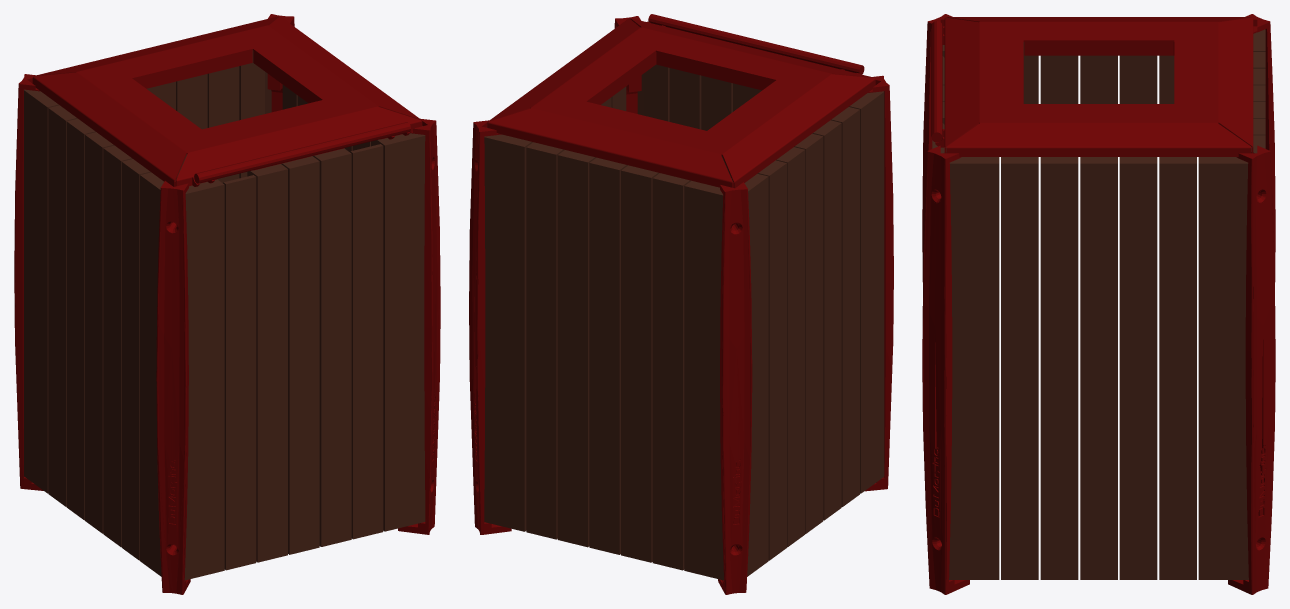
3 views of the same model, side by side, from view 1: azimuth 30°, elevation 25°; view 2: azimuth 150°, elevation 25°; view 3: azimuth 270°, elevation 25° (orthographic). The views are drawn at different scales.
Parts seen in each view (by area): view 1: mesh1.002_mesh1-geometry, mesh11.010_mesh11-geometry, mesh11.014_mesh11-geometry, mesh13.036_mesh13-geometry, mesh15.004_mesh15-geometry, mesh15.003_mesh15-geometry, mesh13.035_mesh13-geometry, mesh13.034_mesh13-geometry, mesh17.007_mesh17-geometry, mesh11.016_mesh11-geometry, mesh13.023_mesh13-geometry, mesh13.022_mesh13-geometry (+13 smaller); view 2: mesh1.002_mesh1-geometry, mesh11.015_mesh11-geometry, mesh11.012_mesh11-geometry, mesh13.033_mesh13-geometry, mesh13.030_mesh13-geometry, mesh13.029_mesh13-geometry, mesh13.032_mesh13-geometry, mesh13.031_mesh13-geometry, mesh17.008_mesh17-geometry, mesh11.011_mesh11-geometry, mesh13.023_mesh13-geometry, mesh13.021_mesh13-geometry (+12 smaller); view 3: mesh1.002_mesh1-geometry, mesh11.009_mesh11-geometry, mesh11.013_mesh11-geometry, mesh13.027_mesh13-geometry, mesh13.025_mesh13-geometry, mesh13.028_mesh13-geometry, mesh13.026_mesh13-geometry, mesh13.024_mesh13-geometry, mesh17.005_mesh17-geometry, mesh17.006_mesh17-geometry, mesh3.002_mesh3-geometry, mesh13.022_mesh13-geometry (+7 smaller).
Part boxes in pixels (bbox=[...]): mesh1.002_mesh1-geometry: bbox=[32, 16, 422, 186]; mesh11.010_mesh11-geometry: bbox=[374, 133, 425, 531]; mesh11.014_mesh11-geometry: bbox=[184, 179, 224, 580]; mesh13.036_mesh13-geometry: bbox=[313, 148, 351, 546]; mesh15.004_mesh15-geometry: bbox=[223, 175, 256, 570]; mesh15.003_mesh15-geometry: bbox=[350, 144, 383, 539]; mesh13.035_mesh13-geometry: bbox=[247, 164, 287, 562]; mesh13.034_mesh13-geometry: bbox=[281, 156, 319, 554]; mesh17.007_mesh17-geometry: bbox=[156, 181, 190, 594]; mesh11.016_mesh11-geometry: bbox=[24, 89, 59, 493]; mesh13.023_mesh13-geometry: bbox=[48, 105, 77, 506]; mesh13.022_mesh13-geometry: bbox=[66, 118, 95, 520]; mesh1.002_mesh1-geometry: bbox=[487, 18, 875, 188]; mesh11.015_mesh11-geometry: bbox=[484, 134, 532, 531]; mesh11.012_mesh11-geometry: bbox=[684, 181, 723, 580]; mesh13.033_mesh13-geometry: bbox=[652, 173, 691, 570]; mesh13.030_mesh13-geometry: bbox=[557, 150, 596, 547]; mesh13.029_mesh13-geometry: bbox=[526, 142, 564, 539]; mesh13.032_mesh13-geometry: bbox=[621, 165, 659, 562]; mesh13.031_mesh13-geometry: bbox=[589, 157, 627, 554]; mesh17.008_mesh17-geometry: bbox=[718, 182, 752, 594]; mesh11.011_mesh11-geometry: bbox=[849, 91, 884, 493]; mesh13.023_mesh13-geometry: bbox=[757, 160, 786, 560]; mesh13.021_mesh13-geometry: bbox=[831, 107, 859, 506]; mesh1.002_mesh1-geometry: bbox=[935, 17, 1253, 156]; mesh11.009_mesh11-geometry: bbox=[1198, 157, 1248, 579]; mesh11.013_mesh11-geometry: bbox=[949, 157, 999, 579]; mesh13.027_mesh13-geometry: bbox=[1040, 157, 1078, 579]; mesh13.025_mesh13-geometry: bbox=[1119, 157, 1157, 579]; mesh13.028_mesh13-geometry: bbox=[1001, 157, 1038, 579]; mesh13.026_mesh13-geometry: bbox=[1159, 157, 1196, 579]; mesh13.024_mesh13-geometry: bbox=[1080, 157, 1117, 579]; mesh17.005_mesh17-geometry: bbox=[1228, 145, 1275, 594]; mesh17.006_mesh17-geometry: bbox=[922, 145, 969, 594]; mesh3.002_mesh3-geometry: bbox=[1024, 42, 1174, 55]; mesh13.022_mesh13-geometry: bbox=[1119, 55, 1157, 103].
Size of the model in its own units: 0.501 by 0.7056 by 0.501.
